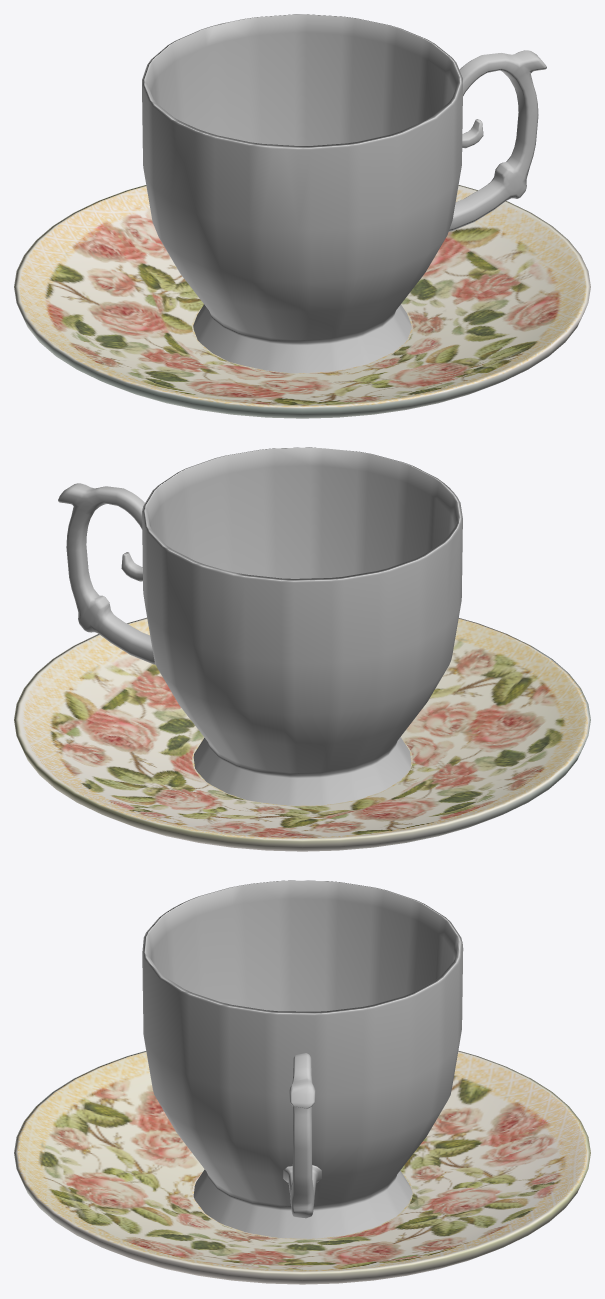
File: cup and plate.fbx
3 views of the same model, one above another, from view 1: azimuth 30°, elevation 25°; view 2: azimuth 150°, elevation 25°; view 3: azimuth 270°, elevation 25° (orthographic).
Parts seen in each view (by area): view 1: pCylinder2, pCylinder1, pPlane1; view 2: pCylinder2, pCylinder1, pPlane1; view 3: pCylinder2, pCylinder1, pPlane1.
Part boxes in pixels (box(x1,y1,x2,y2)): pCylinder2: box(142, 14, 462, 373); pCylinder1: box(14, 185, 590, 418); pPlane1: box(448, 50, 546, 231); pCylinder2: box(142, 447, 462, 805); pCylinder1: box(14, 617, 590, 851); pPlane1: box(58, 483, 155, 664); pCylinder2: box(142, 880, 463, 1238); pCylinder1: box(14, 1050, 590, 1284); pPlane1: box(283, 1053, 321, 1218).
Size of the model in its own units: 1.21 by 0.6128 by 1.21.
